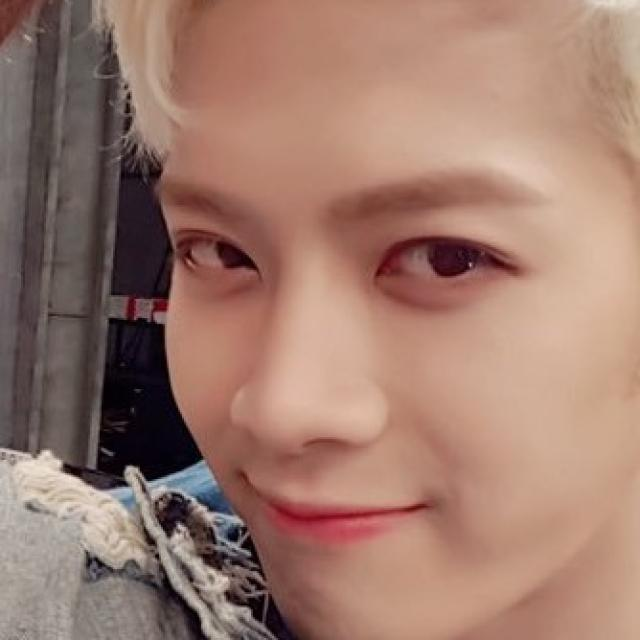Normal: (163, 2, 638, 638)
